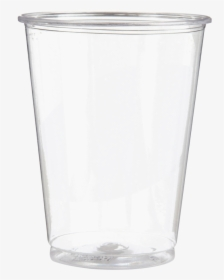plastic_glass: (15, 2, 214, 274)
